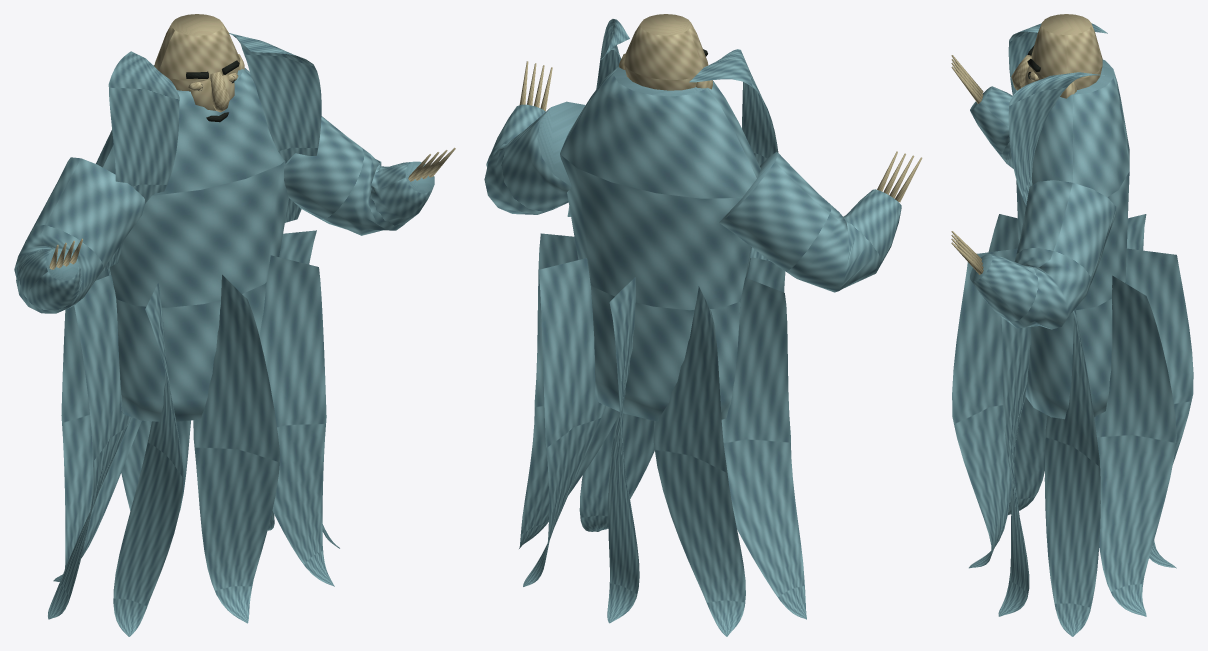
Rendered from special-spirit.glb.
3 views of the same model, side by side, from view 1: azimuth 30°, elevation 25°; view 2: azimuth 150°, elevation 25°; view 3: azimuth 270°, elevation 25° (orthographic). The views are drawn at different scales.
Visible parts, largest first — view 1: spirit, bone; view 2: spirit, bone; view 3: spirit, bone.
Part boxes in pixels (box(x1,y1,x2,y2)): spirit: box(14, 33, 434, 636); bone: box(49, 14, 455, 269); spirit: box(484, 19, 901, 636); bone: box(519, 14, 922, 202); spirit: box(952, 23, 1193, 636); bone: box(951, 14, 1102, 274).
Bounding box in the file's own units: 1.07 × 1.44 × 0.5814.
3 materials, 3 textured.
